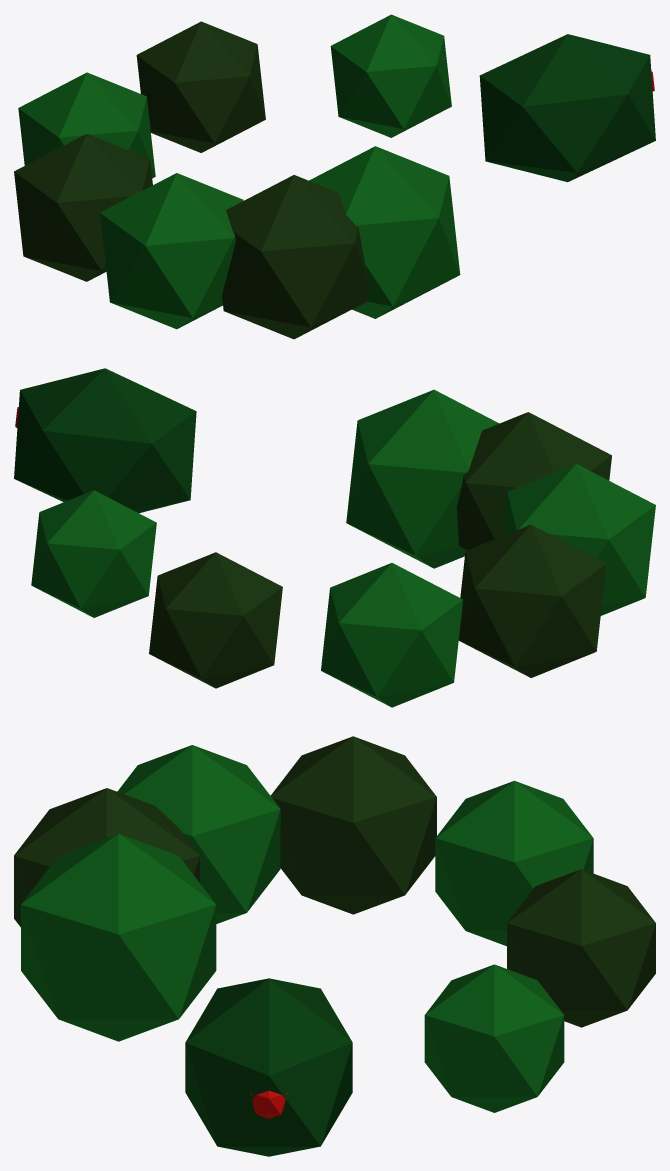
The model's file is swamp_snake.obj.
The picture shows the model from 3 angles, top to bottom: view 1: azimuth 30°, elevation 25°; view 2: azimuth 150°, elevation 25°; view 3: azimuth 270°, elevation 25°; orthographic projection. The views are drawn at different scales.
Parts seen in each view (by area): view 1: swamp_snake; view 2: swamp_snake; view 3: swamp_snake.
Boxes of the visible parts, x1,y1,x2,y2 form: swamp_snake: [14, 14, 655, 339]; swamp_snake: [14, 368, 655, 707]; swamp_snake: [14, 736, 655, 1156].
Size of the model in its own units: 0.7551 by 0.215 by 0.5871.
